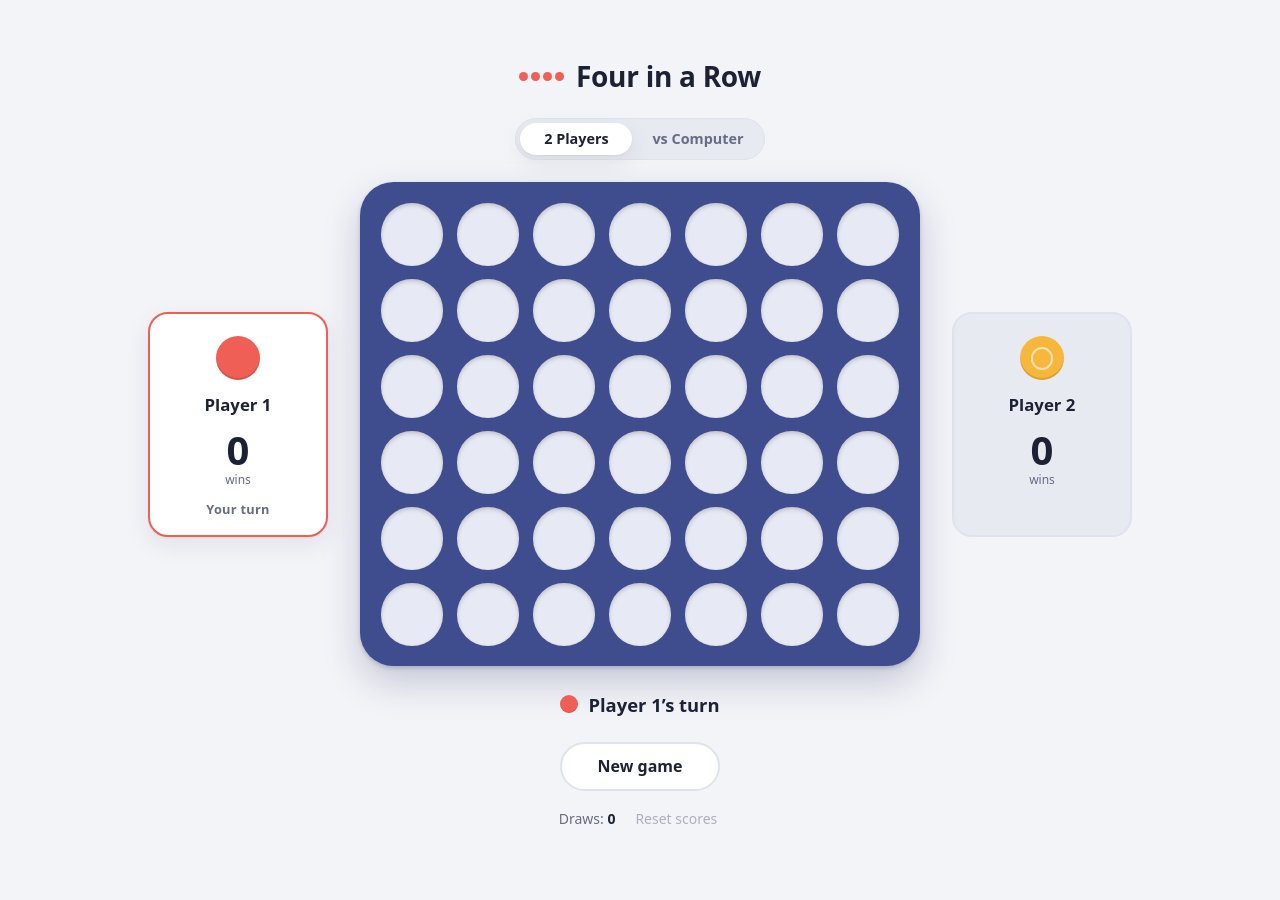
Test: App › drops discs and alternates turns
Expected: the message reads "Player 1’s turn", [588, 692, 720, 717]
Click the button named "Column 4, 0 of 6 discs".
click(640, 424)  # box [602, 196, 678, 652]
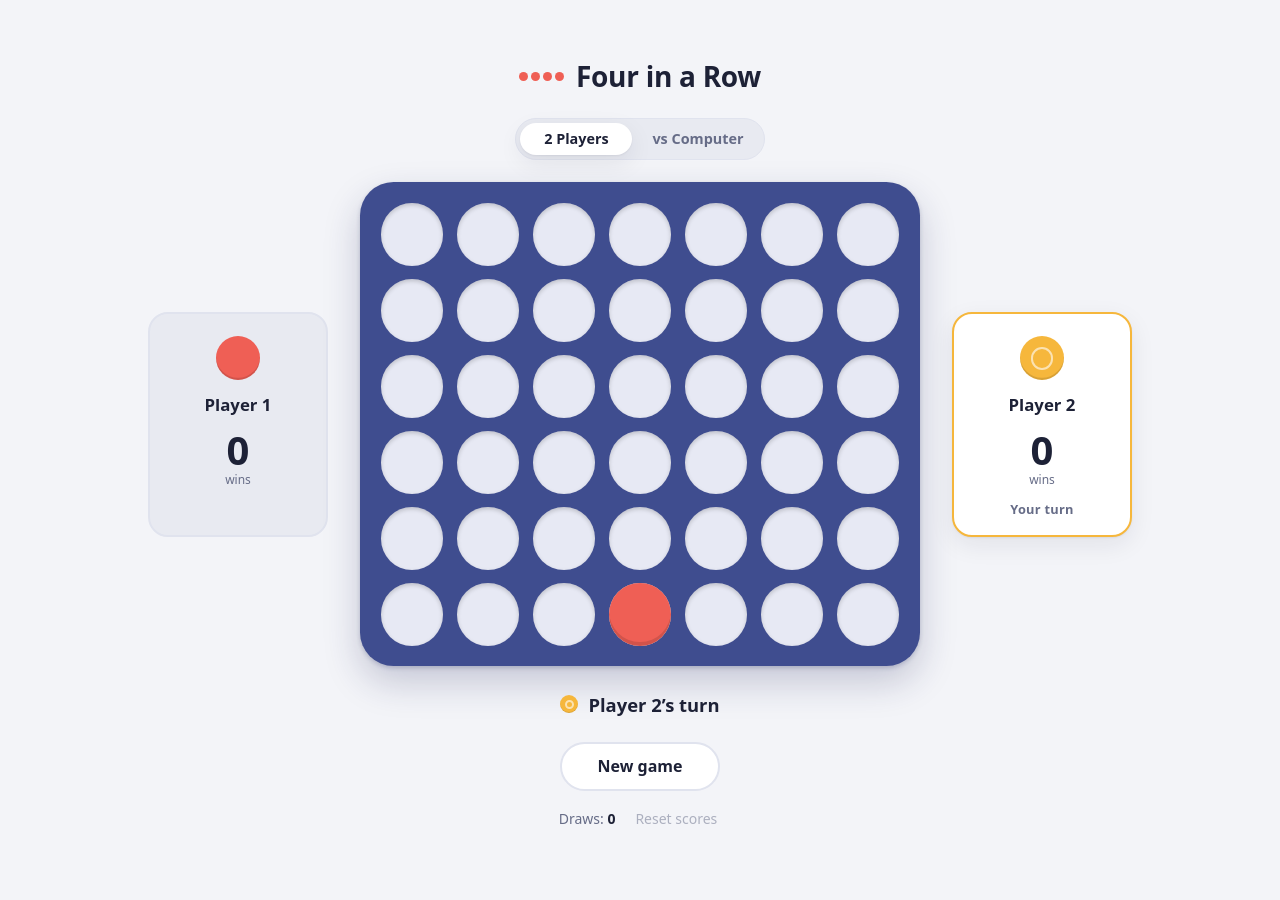
Now the message reads "Player 2’s turn", box [588, 692, 720, 717]
